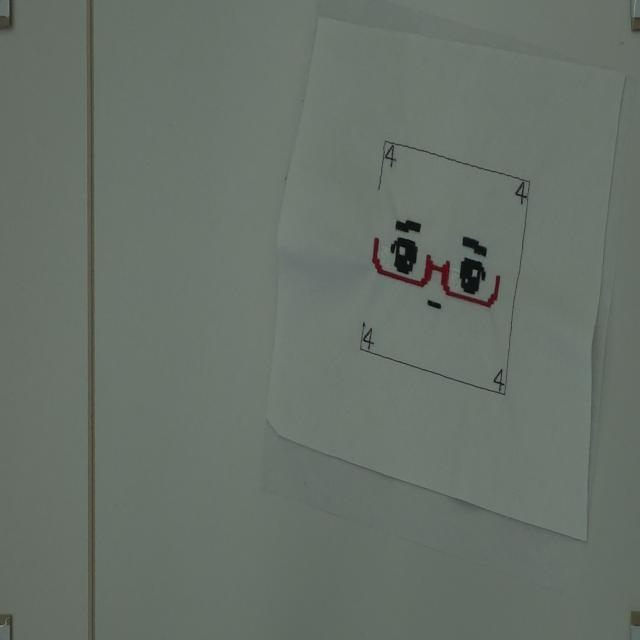4 -: (514, 179, 529, 206), (362, 327, 376, 353), (491, 364, 504, 390), (384, 145, 396, 171)
